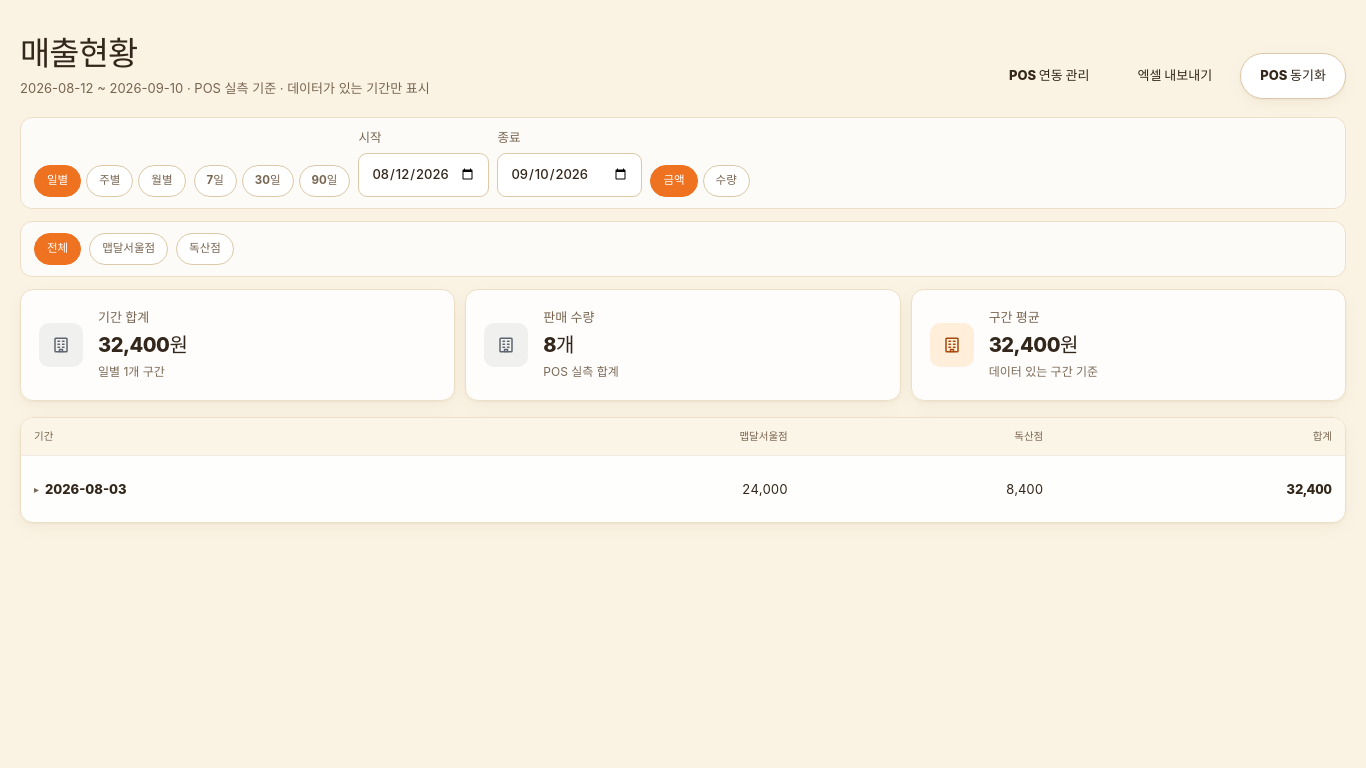
Scenario: POS 현장 운영 화면 › 매출현황: 매출 숫자를 클릭해도 품목별 판매가 열리고 매장 셀은 그 매장만 보여준다
Check: the text "우유크림도넛" is not shown
Click the button with class "cell-toggle" showing "32,400" at (1309, 489), box [1282, 467, 1336, 511]
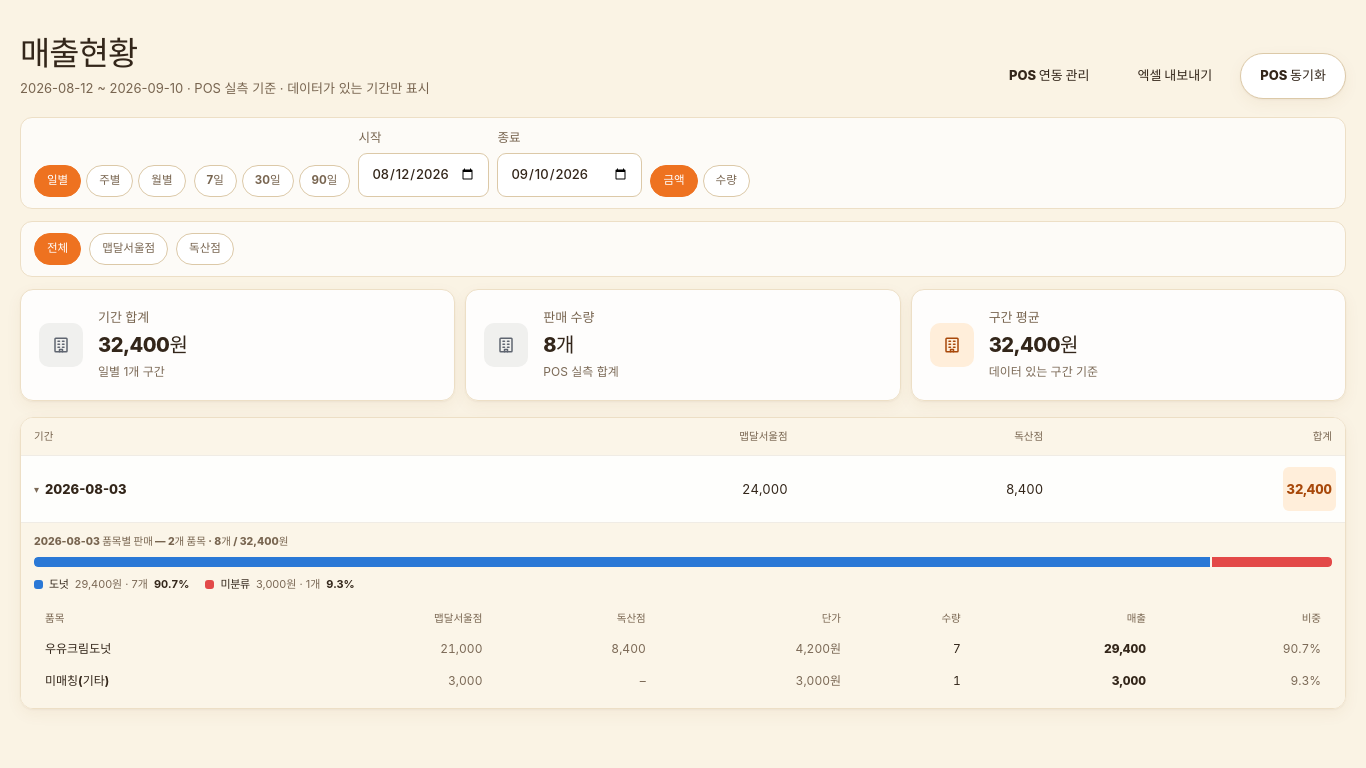
Check: the text "우유크림도넛" is shown, box [34, 633, 290, 665]
Check: the text "미매칭(기타)" is shown, box [34, 665, 290, 697]
Click the button with class "cell-toggle" showing "8,400" at (1024, 489), box [1002, 467, 1047, 511]
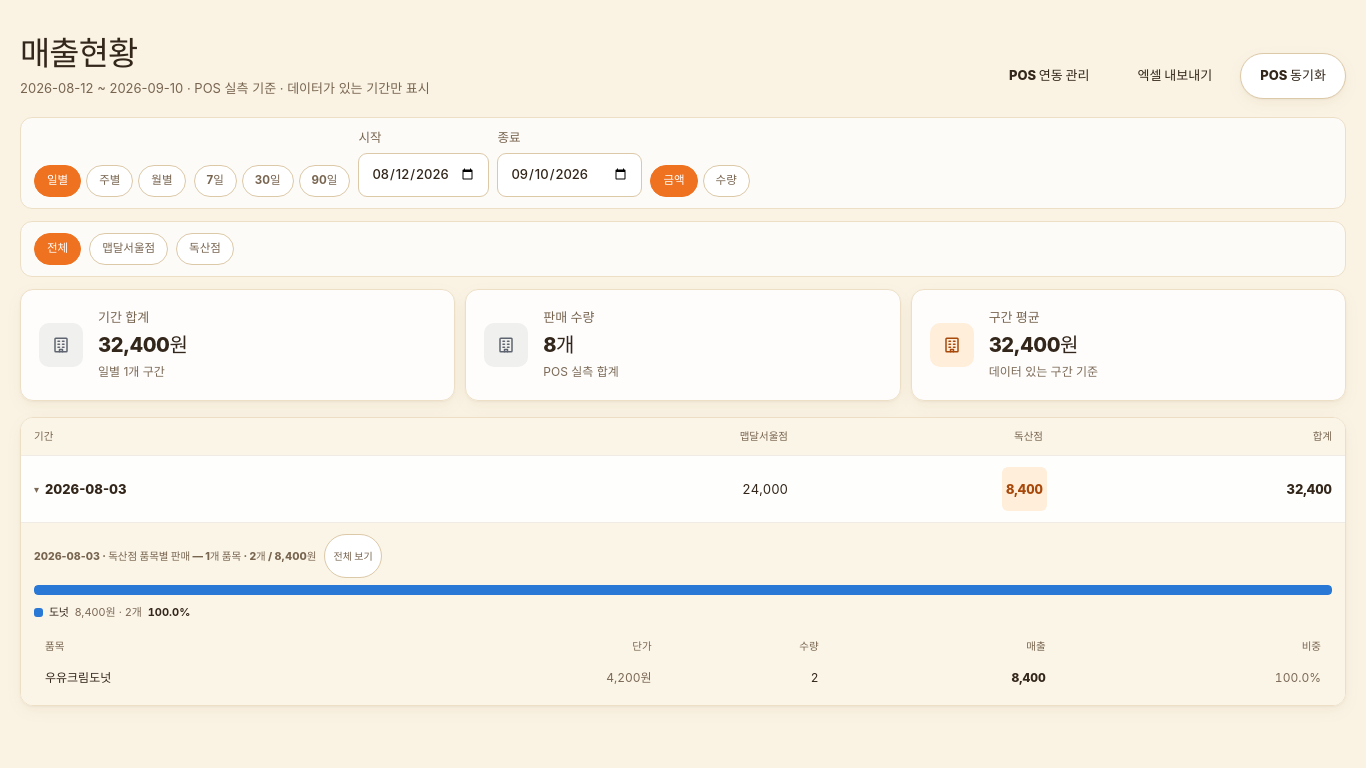
Check: the element with class "drilldown" shows "독산점", box [100, 550, 137, 563]
Check: the element with class "drilldown" shows "우유크림도넛", box [45, 670, 111, 685]
Check: the column heading with class "drilldown" no longer shows "미매칭(기타)"
Click the button with class "cell-toggle" showing "8,400" at (1024, 489), box [1002, 467, 1047, 511]
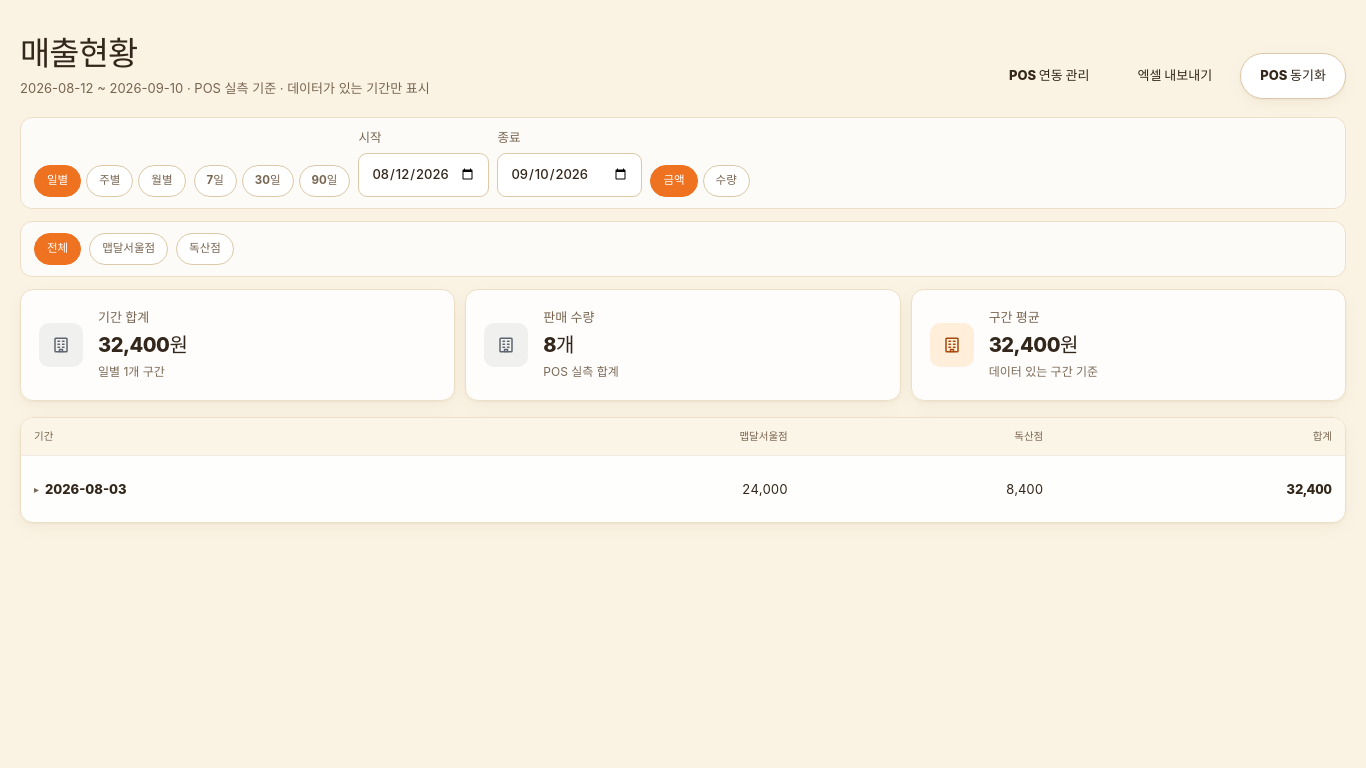
Check: the element with class "drilldown" is gone
